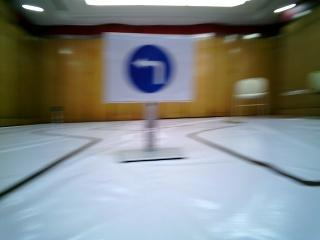left: (109, 38, 185, 99)
